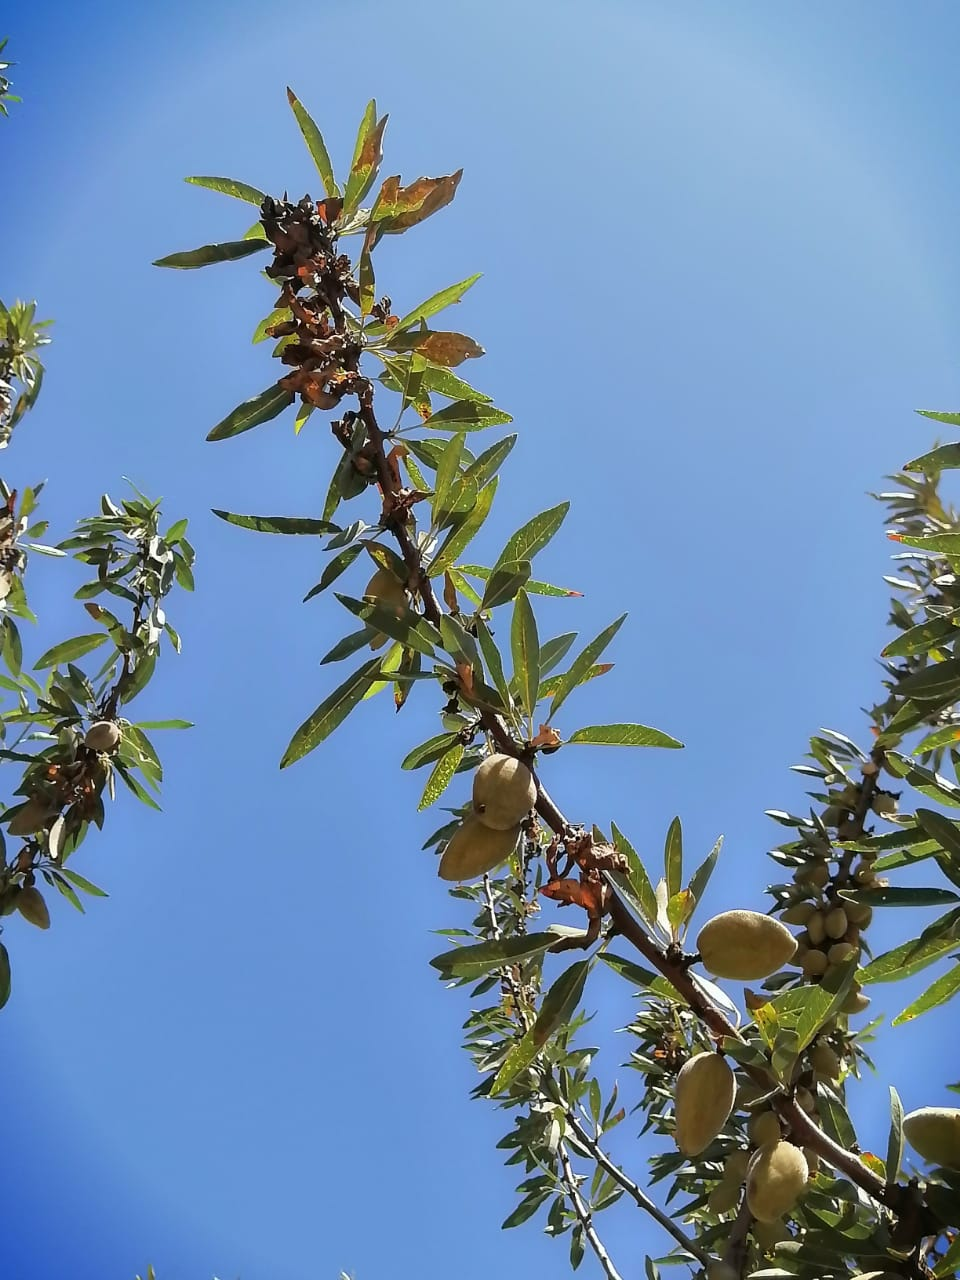scolytes: (260, 163, 629, 923)
